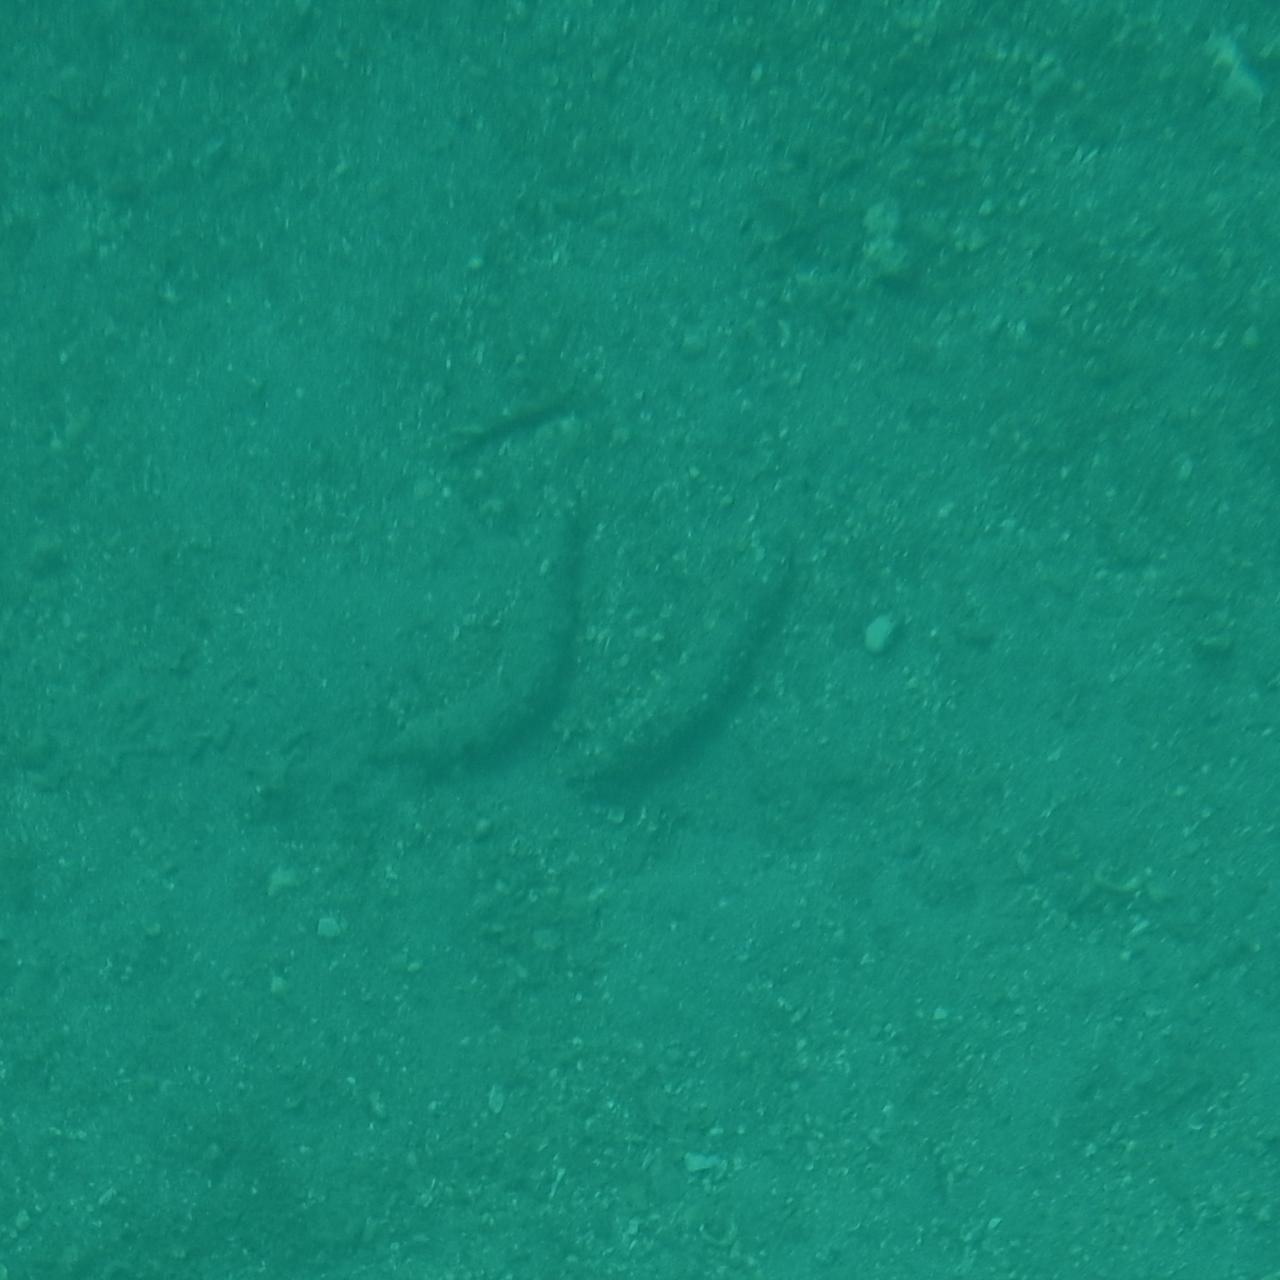Holothuria tubulosa: (544, 527, 836, 826), (381, 467, 602, 768), (1160, 268, 1280, 594), (0, 651, 91, 1047)
